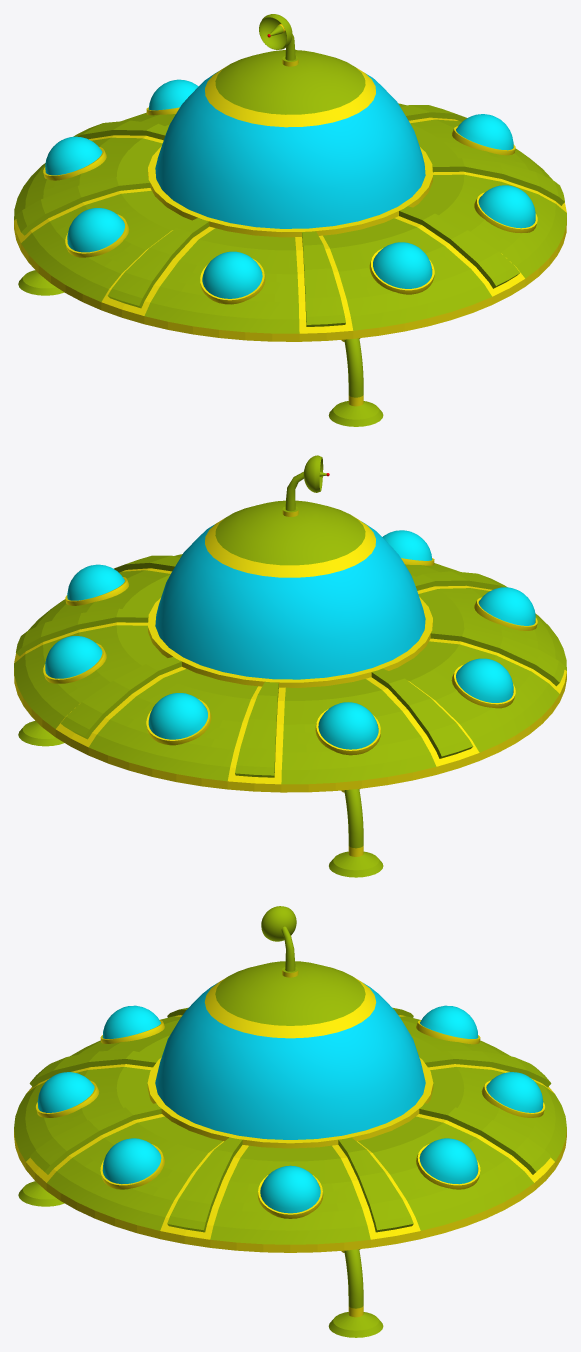
The model's file is retroufo.gltf.
3 renders of one model, top to bottom at view 1: azimuth 30°, elevation 25°; view 2: azimuth 150°, elevation 25°; view 3: azimuth 270°, elevation 25°, orthographic.
Parts seen in each view (by area): view 1: Cylinder02.002, meshId18_name, meshId15_name, meshId19_name, meshId17_name, Sphere03.001, Sphere05.001, Cylinder04.002, Sphere01.002, Sphere07.001, Sphere08.001, Sphere02.002 (+5 smaller); view 2: Cylinder02.002, meshId18_name, meshId15_name, meshId19_name, meshId17_name, Sphere08.001, Sphere06.001, Cylinder07.002, Sphere01.002, Sphere04.001, Sphere03.001, Sphere02.002 (+5 smaller); view 3: Cylinder02.002, meshId18_name, meshId15_name, meshId19_name, meshId17_name, Sphere02.002, Sphere04.001, Sphere07.001, Cylinder10.002, Sphere05.001, Sphere06.001, Sphere03.001 (+4 smaller).
Part boxes in pixels (x1,y1,x2,y2): Cylinder02.002: [14, 103, 566, 333]; meshId18_name: [155, 71, 425, 228]; meshId15_name: [14, 117, 566, 341]; meshId19_name: [215, 50, 365, 114]; meshId17_name: [148, 66, 432, 237]; Sphere03.001: [202, 251, 262, 298]; Sphere05.001: [373, 242, 432, 288]; Cylinder04.002: [328, 338, 383, 426]; Sphere01.002: [67, 208, 124, 252]; Sphere07.001: [478, 185, 535, 228]; Sphere08.001: [45, 136, 102, 175]; Sphere02.002: [456, 114, 513, 150]; Cylinder02.002: [14, 554, 566, 784]; meshId18_name: [155, 521, 425, 679]; meshId15_name: [14, 568, 566, 792]; meshId19_name: [215, 500, 365, 565]; meshId17_name: [148, 516, 432, 687]; Sphere08.001: [318, 702, 378, 749]; Sphere06.001: [148, 693, 207, 739]; Cylinder07.002: [329, 789, 383, 877]; Sphere01.002: [456, 658, 513, 702]; Sphere04.001: [45, 636, 102, 678]; Sphere03.001: [478, 587, 535, 625]; Sphere02.002: [67, 564, 124, 600]; Cylinder02.002: [14, 1007, 566, 1244]; meshId18_name: [155, 983, 425, 1139]; meshId15_name: [14, 1015, 566, 1252]; meshId19_name: [215, 961, 365, 1025]; meshId17_name: [147, 977, 433, 1148]; Sphere02.002: [260, 1165, 320, 1213]; Sphere04.001: [419, 1138, 478, 1184]; Sphere07.001: [102, 1138, 161, 1184]; Cylinder10.002: [328, 1249, 383, 1337]; Sphere05.001: [37, 1072, 94, 1112]; Sphere06.001: [486, 1072, 543, 1112]; Sphere03.001: [102, 1005, 160, 1038].
Bounding box in the file's own units: 7.31 × 4.47 × 7.31.
